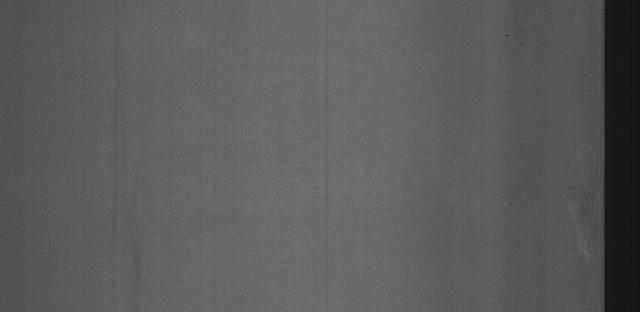inclusion: (502, 23, 526, 50)
water_spot: (559, 170, 600, 268)
